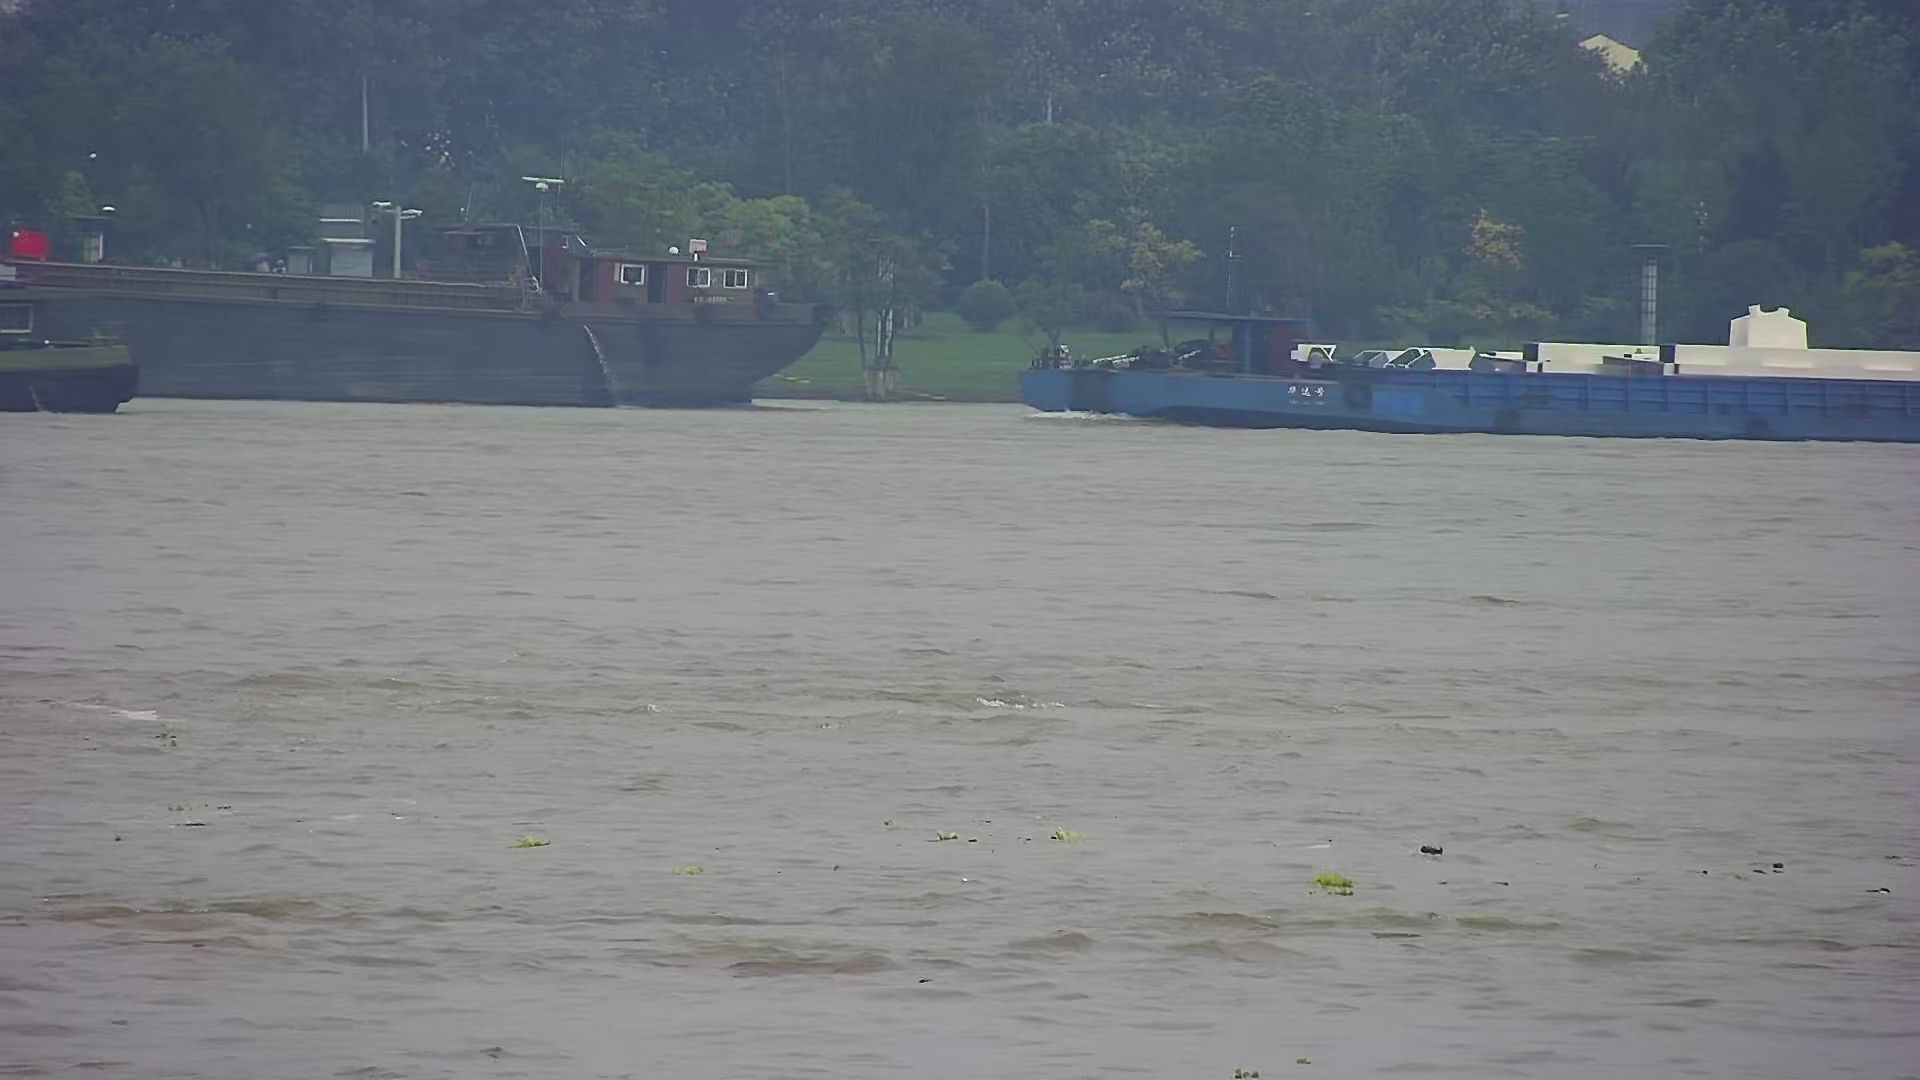boat: (1, 324, 152, 421)
rubbish: (1302, 858, 1367, 905), (1415, 829, 1451, 866)
ship: (1, 160, 847, 407), (1011, 286, 1920, 448)
